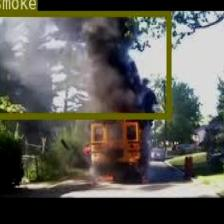smoke: (0, 9, 169, 117)
